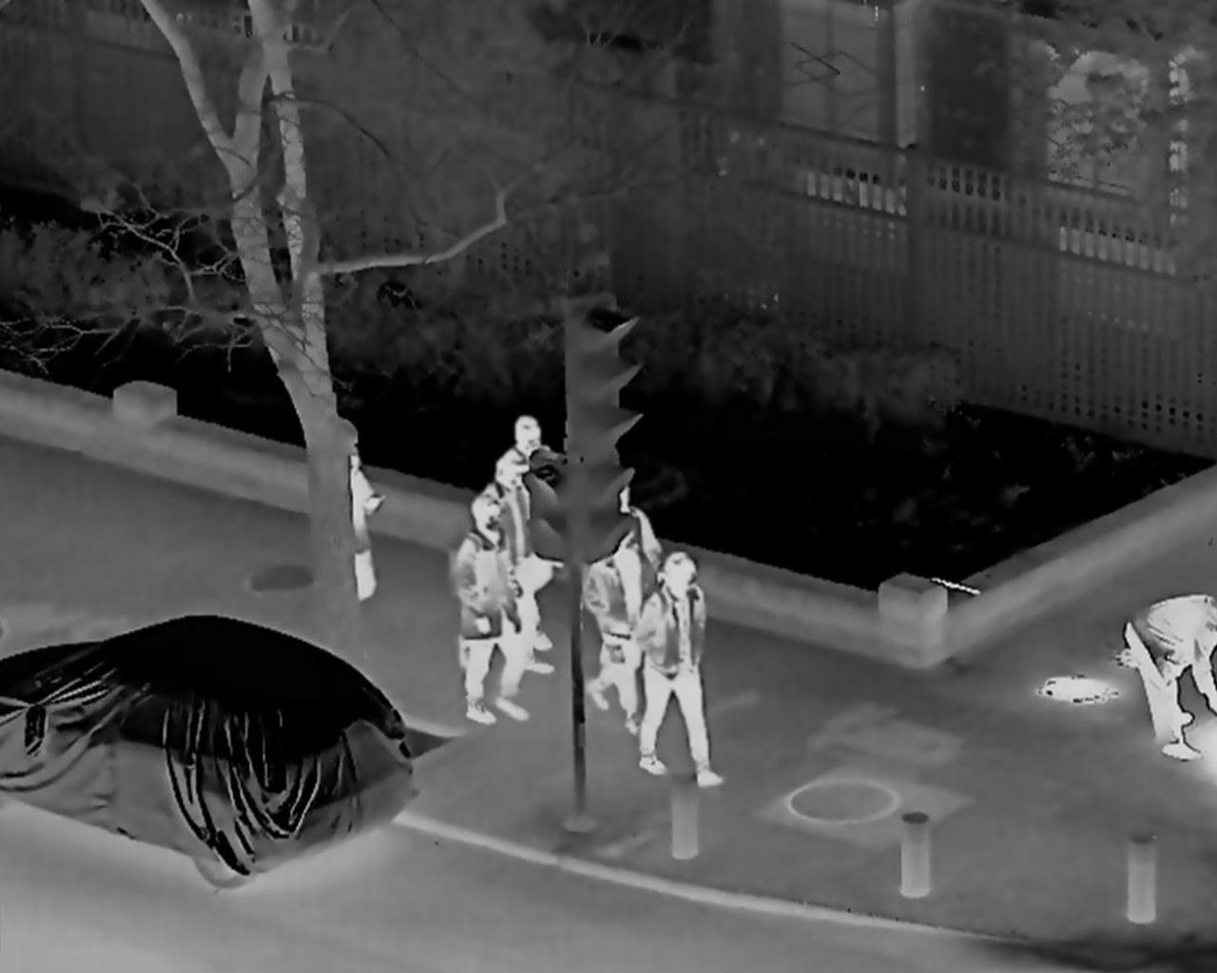person: (450, 493, 534, 728), (643, 557, 727, 783), (490, 414, 570, 648), (471, 460, 555, 678), (1121, 591, 1217, 763), (579, 530, 650, 732), (323, 438, 386, 620)
